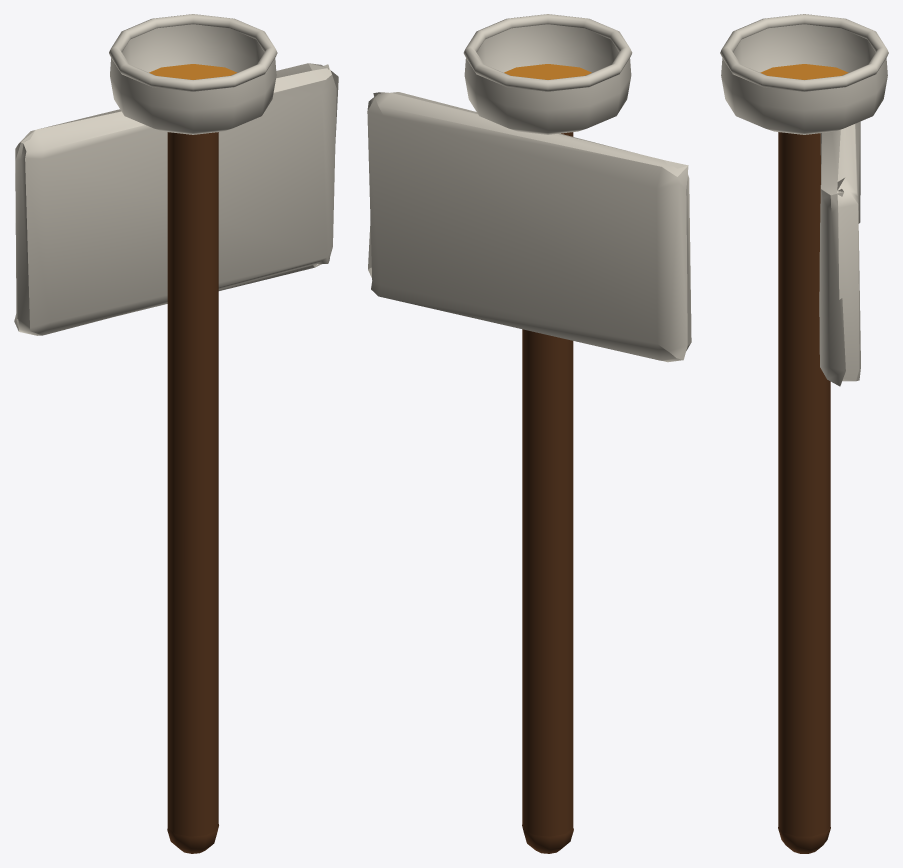
Rendered from soup_sign.fbx.
3 views of the same model, side by side, from view 1: azimuth 30°, elevation 25°; view 2: azimuth 150°, elevation 25°; view 3: azimuth 270°, elevation 25° (orthographic).
Parts seen in each view (by area): view 1: soup_sign; view 2: soup_sign; view 3: soup_sign.
Boxes of the visible parts, <box> form: soup_sign: <box>14,14,338,853</box>; soup_sign: <box>367,14,691,853</box>; soup_sign: <box>720,14,888,853</box>.
Bounding box in the file's own units: 0.7106 × 1.7 × 0.324.
